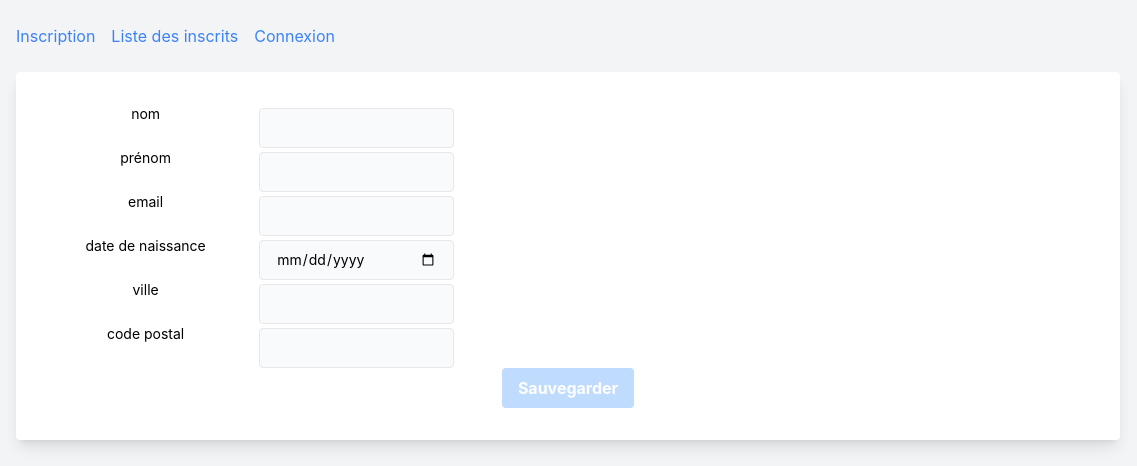
Test: Inscription form testing › form age is inferior to 18
Type "TestN" into the field named "nom".
click(357, 128); type("TestN")  # box [259,108,454,148]
Type "TestP" into the field named "prenom".
click(357, 172); type("TestP")  # box [259,152,454,192]
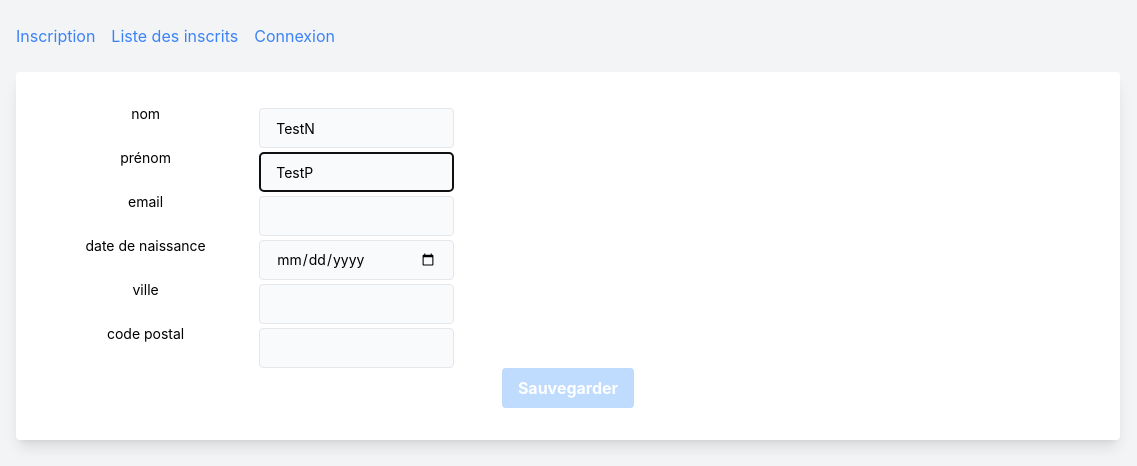
Type "testp.testn@example.com" into the field named "email".
click(357, 216); type("testp.testn@example.com")  # box [259,196,454,236]
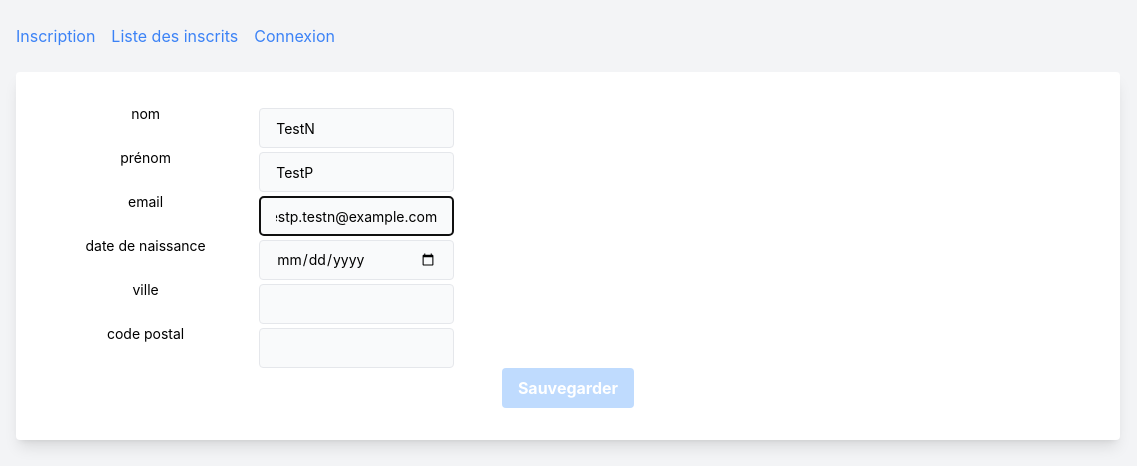
Type "2010-05-20" into the date field named "date".
click(357, 260); type("2010-05-20")  # box [259,240,454,280]
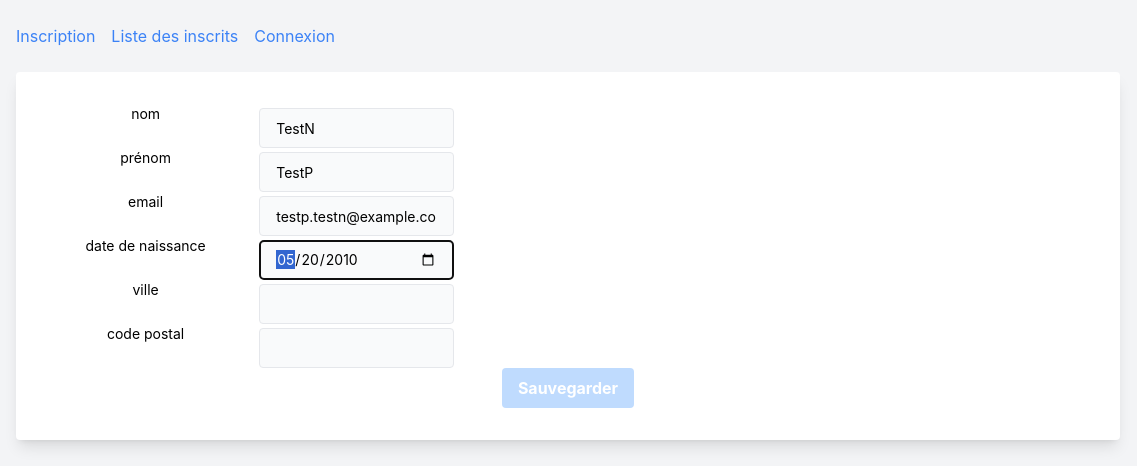
Type "Paris" into the field named "ville".
click(357, 304); type("Paris")  # box [259,284,454,324]
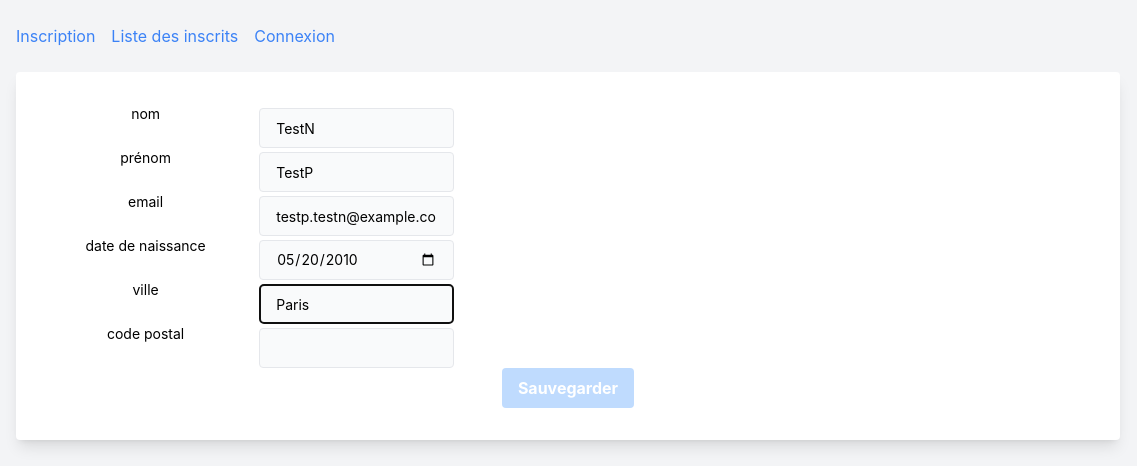
Type "75001" into the field named "code".
click(357, 348); type("75001")  # box [259,328,454,368]
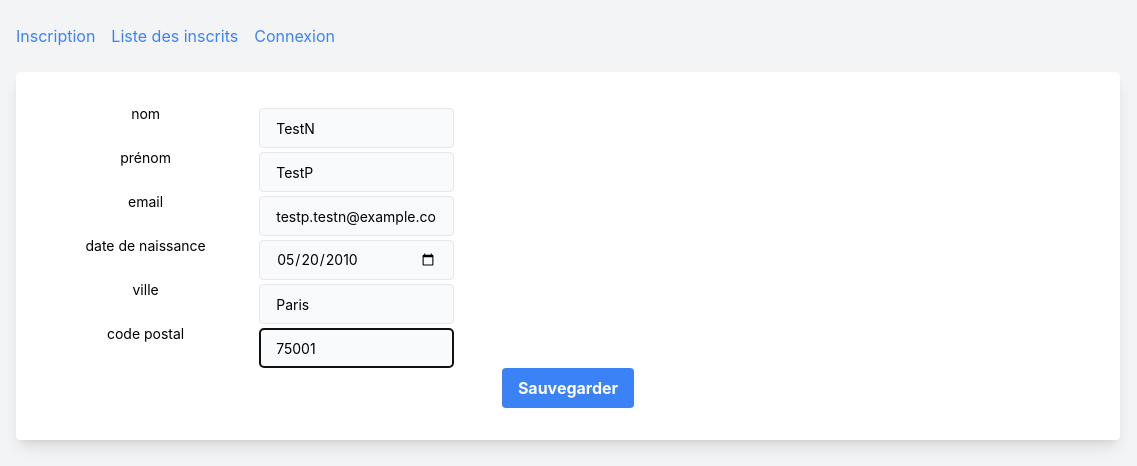
Expected: the submit button is enabled
Click the submit button.
click(568, 388)  # box [502,368,634,408]
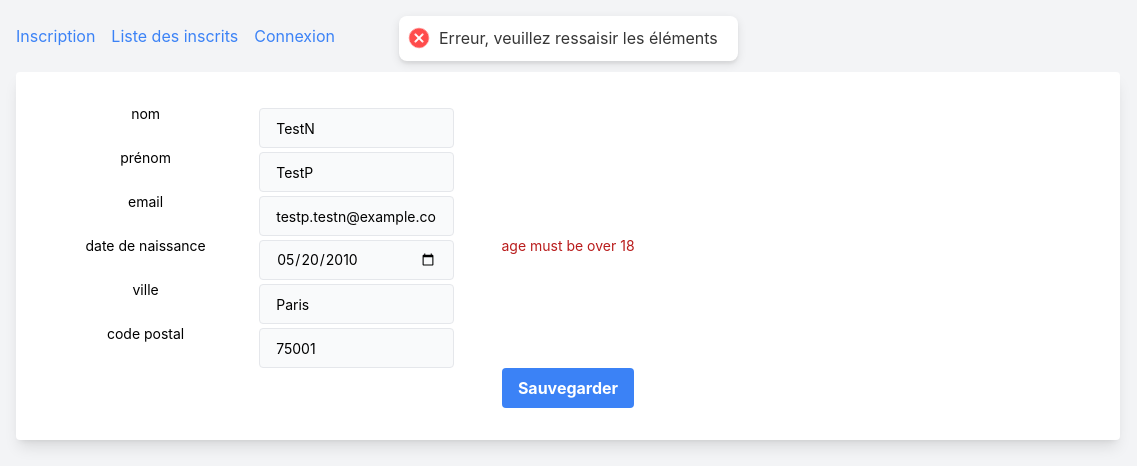
Expected: the text "age must be over 18" is shown, [501,237,634,254]
